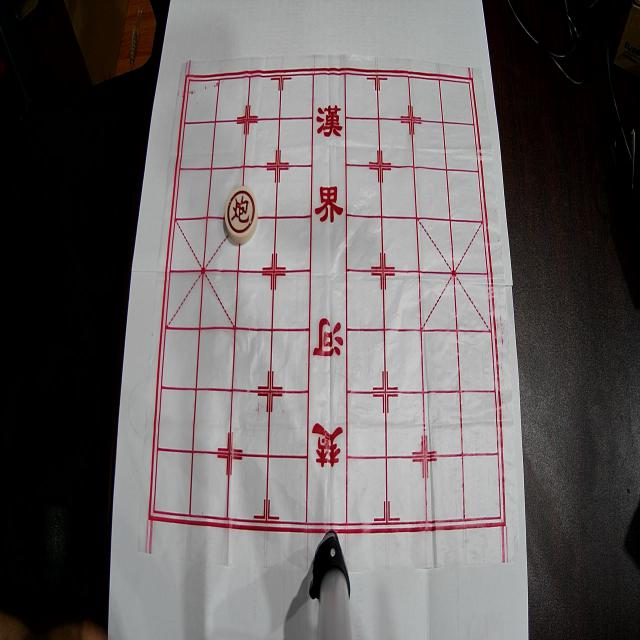red-cannon: (225, 186, 258, 244)
